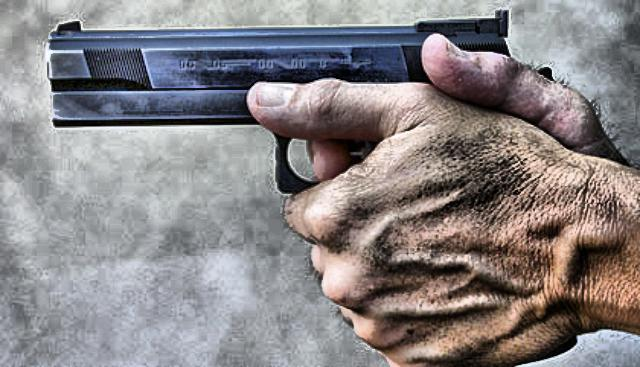pistol: (43, 12, 565, 190)
